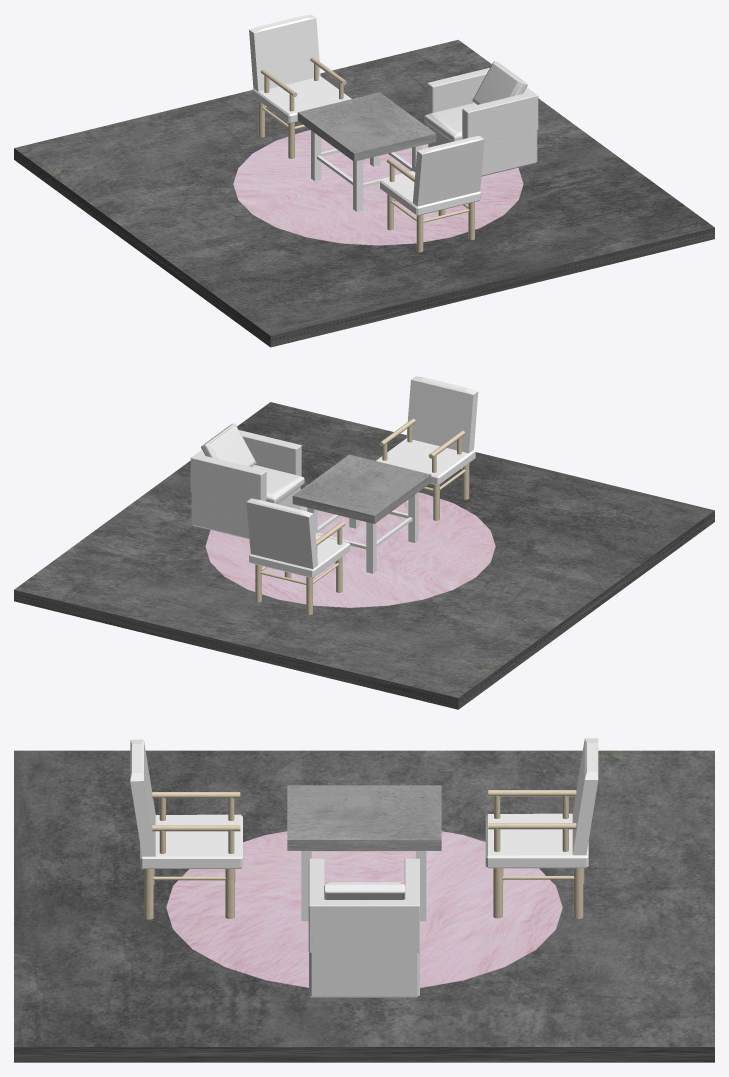
Rendered from living room.fbx.
3 views of the same model, one above another, from view 1: azimuth 30°, elevation 25°; view 2: azimuth 150°, elevation 25°; view 3: azimuth 270°, elevation 25° (orthographic). The views are drawn at different scales.
Visible parts, largest first — view 1: pCube1, pDisc2, pCube20 (×2), pCube10, pCube16, pCube13, pCube15, pCube19, pCube17, pasted__pCube11; view 2: pCube1, pDisc2, pCube20 (×2), pCube10, pCube15, pCube13, pCube16, pCube19, pCube17, pasted__pCube12; view 3: pCube1, pDisc2, pCube20 (×2), pCube10, pCube14, pCube13, pCube19, pCylinder6 (×2), pCylinder18 (×2), pCube16, pCube15, pCube11 (+2 smaller).
Part boxes in pixels (bbox=[...]): pCube1: bbox=[14, 39, 714, 347]; pDisc2: bbox=[233, 127, 523, 245]; pCube20 (×2): bbox=[249, 14, 484, 215]; pCube10: bbox=[297, 92, 436, 161]; pCube16: bbox=[462, 93, 537, 142]; pCube13: bbox=[428, 124, 537, 176]; pCube15: bbox=[427, 68, 489, 114]; pCube19: bbox=[472, 61, 527, 104]; pCube17: bbox=[424, 103, 476, 141]; pasted__pCube11: bbox=[353, 159, 363, 211]; pCube1: bbox=[14, 402, 714, 709]; pDisc2: bbox=[205, 489, 495, 607]; pCube20 (×2): bbox=[246, 376, 478, 578]; pCube10: bbox=[292, 454, 431, 523]; pCube15: bbox=[191, 454, 266, 505]; pCube13: bbox=[191, 487, 300, 539]; pCube16: bbox=[239, 430, 301, 476]; pCube19: bbox=[201, 423, 256, 466]; pCube17: bbox=[252, 465, 304, 503]; pasted__pCube12: bbox=[366, 522, 376, 573]; pCube1: bbox=[14, 750, 714, 1062]; pDisc2: bbox=[166, 831, 562, 988]; pCube20 (×2): bbox=[130, 738, 598, 868]; pCube10: bbox=[287, 785, 441, 850]; pCube14: bbox=[309, 899, 419, 952]; pCube13: bbox=[309, 952, 419, 997]; pCube19: bbox=[324, 882, 405, 899]; pCylinder6 (×2): bbox=[152, 790, 576, 831]; pCylinder18 (×2): bbox=[152, 792, 576, 829]; pCube16: bbox=[308, 858, 324, 951]; pCube15: bbox=[404, 858, 419, 905]; pCube11: bbox=[301, 851, 311, 921].
Size of the model in its own units: 12.06 by 3 by 12.06.
